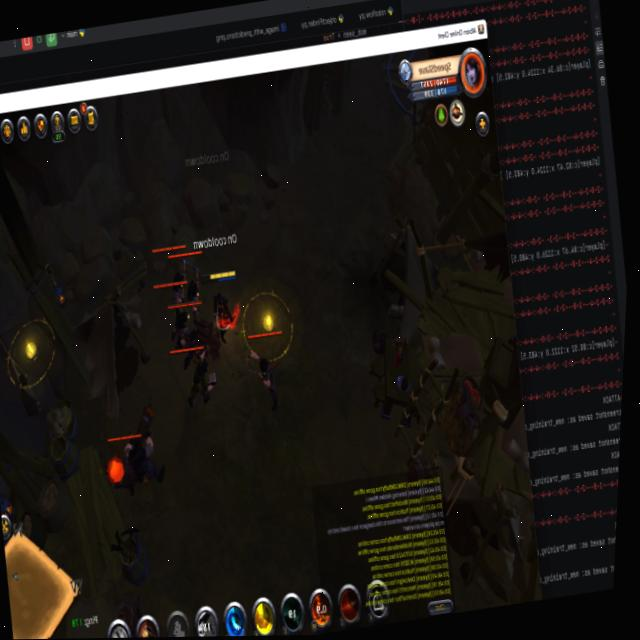ore: (236, 316, 305, 413), (143, 237, 215, 325), (99, 415, 170, 504), (160, 292, 216, 374)
red: (198, 263, 249, 340)
